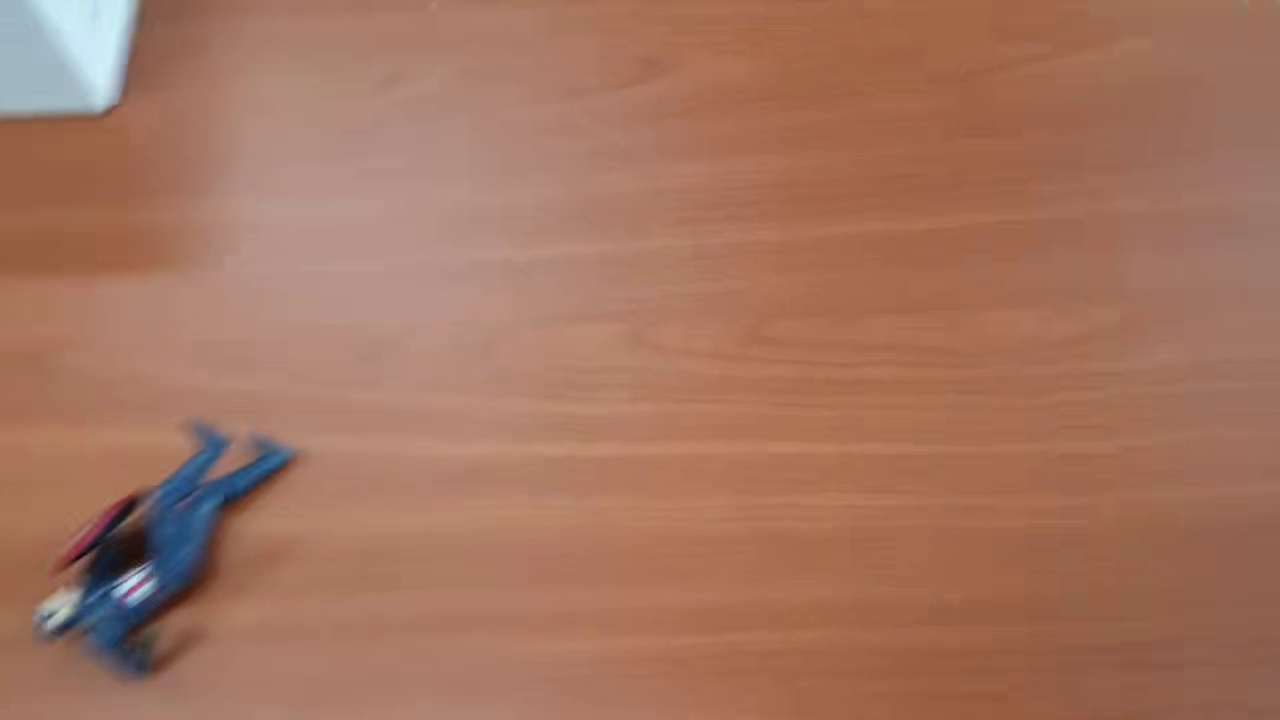people: (32, 415, 302, 676)
